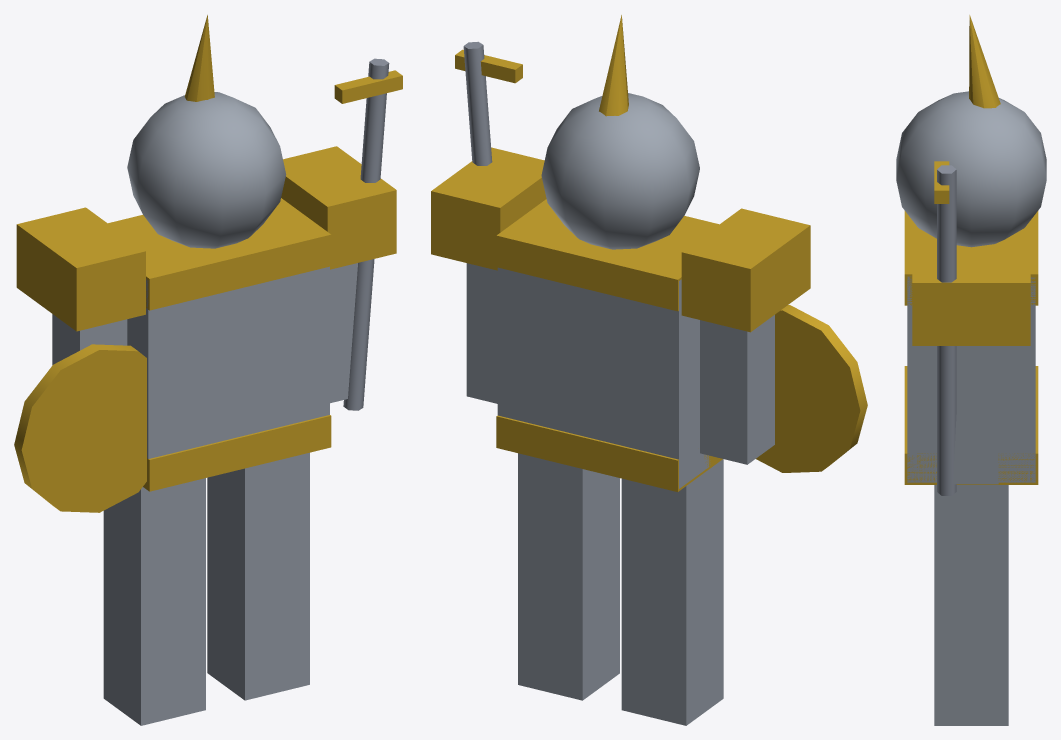
The model's file is high-guard.glb.
3 renders of one model, left to right at view 1: azimuth 30°, elevation 25°; view 2: azimuth 150°, elevation 25°; view 3: azimuth 270°, elevation 25°, orthographic.
Size of the model in its own units: 0.91 by 1.5 by 0.3043.
